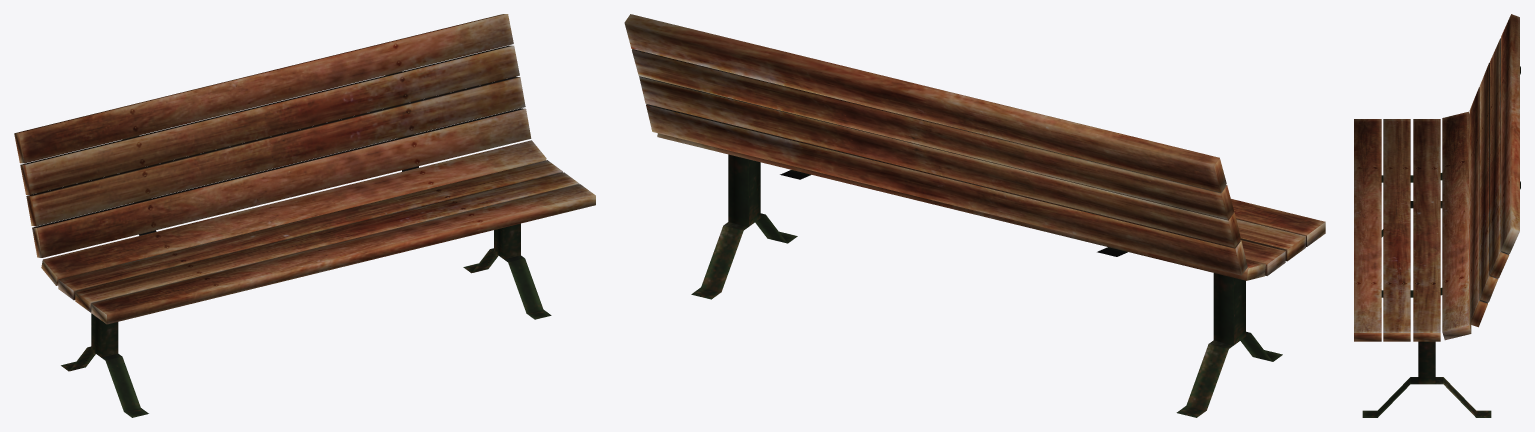
3 renders of one model, left to right at view 1: azimuth 30°, elevation 25°; view 2: azimuth 150°, elevation 25°; view 3: azimuth 270°, elevation 25°, orthographic. The views are drawn at different scales.
Visible parts, largest first — view 1: streetbench1; view 2: streetbench1; view 3: streetbench1.
Boxes of the visible parts, x1,y1,x2,y2 form: streetbench1: [14, 14, 595, 417]; streetbench1: [624, 14, 1325, 417]; streetbench1: [1354, 14, 1520, 417].
Size of the model in its own units: 124 by 55.86 by 40.76.
Materials: 1 (1 with a texture image).
